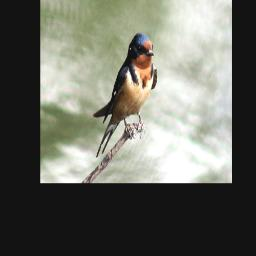Swallow: (95, 32, 159, 159)
